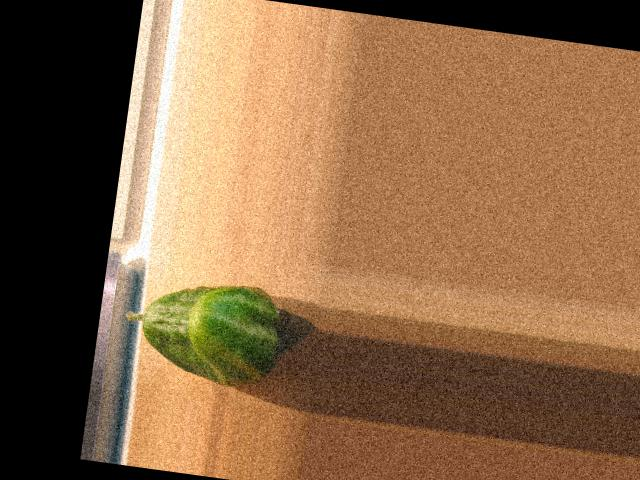cucumber: (117, 268, 286, 390)
